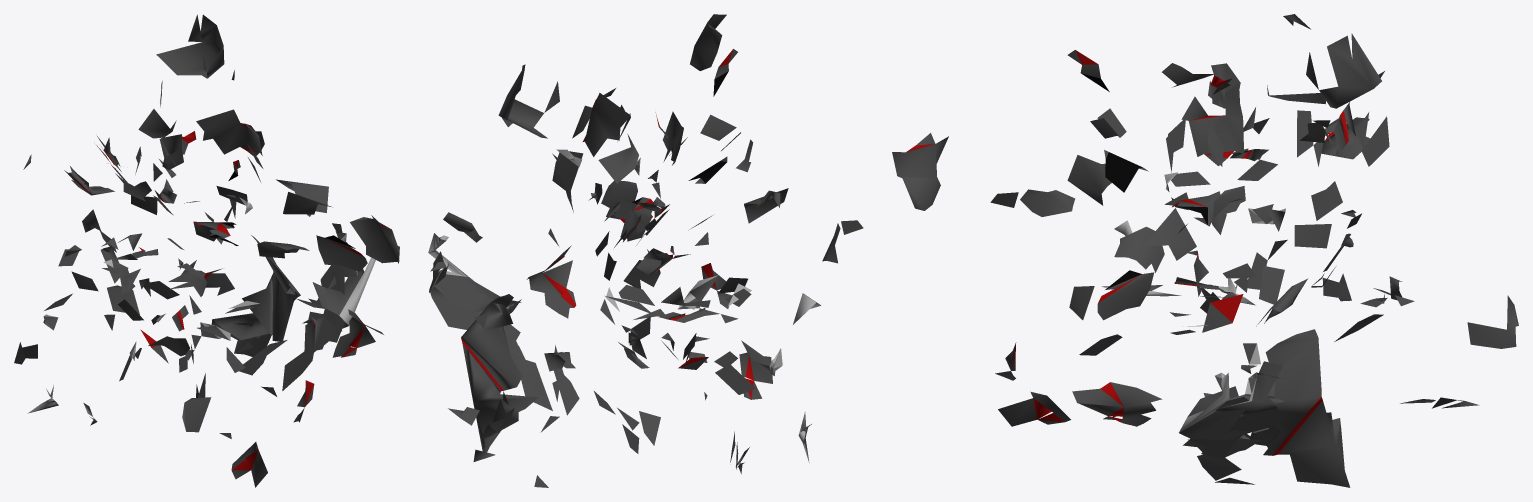
File: spacecraftExplosion_000009.obj
3 views of the same model, side by side, from view 1: azimuth 30°, elevation 25°; view 2: azimuth 150°, elevation 25°; view 3: azimuth 270°, elevation 25° (orthographic). The views are drawn at different scales.
Parts seen in each view (by area): view 1: Cube; view 2: Cube; view 3: Cube.
Boxes of the visible parts, x1,y1,x2,y2 form: Cube: [14, 14, 399, 487]; Cube: [428, 14, 863, 487]; Cube: [892, 14, 1518, 487].
Bounding box in the file's own units: 12.26 × 12.33 × 15.65.
